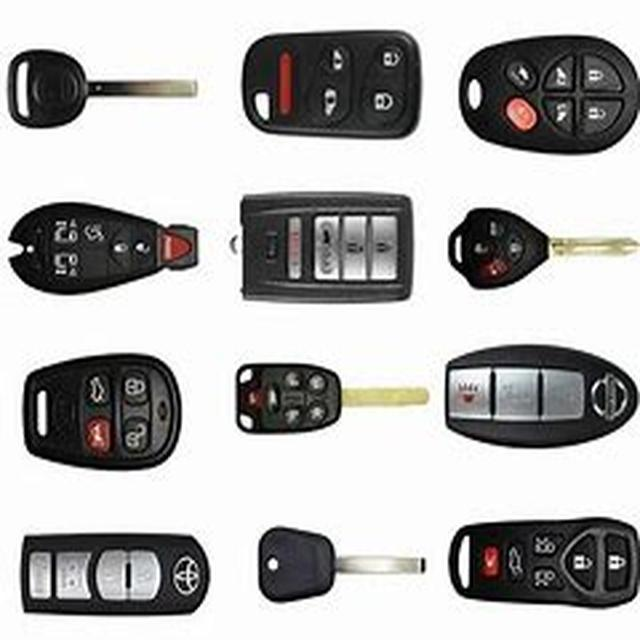key: (218, 42, 464, 162), (418, 338, 629, 476), (432, 498, 633, 634), (19, 352, 220, 478), (238, 176, 412, 320), (31, 179, 203, 316), (451, 31, 603, 173), (227, 349, 422, 458), (0, 50, 223, 145), (10, 522, 203, 621), (422, 203, 618, 296), (232, 506, 384, 618)
